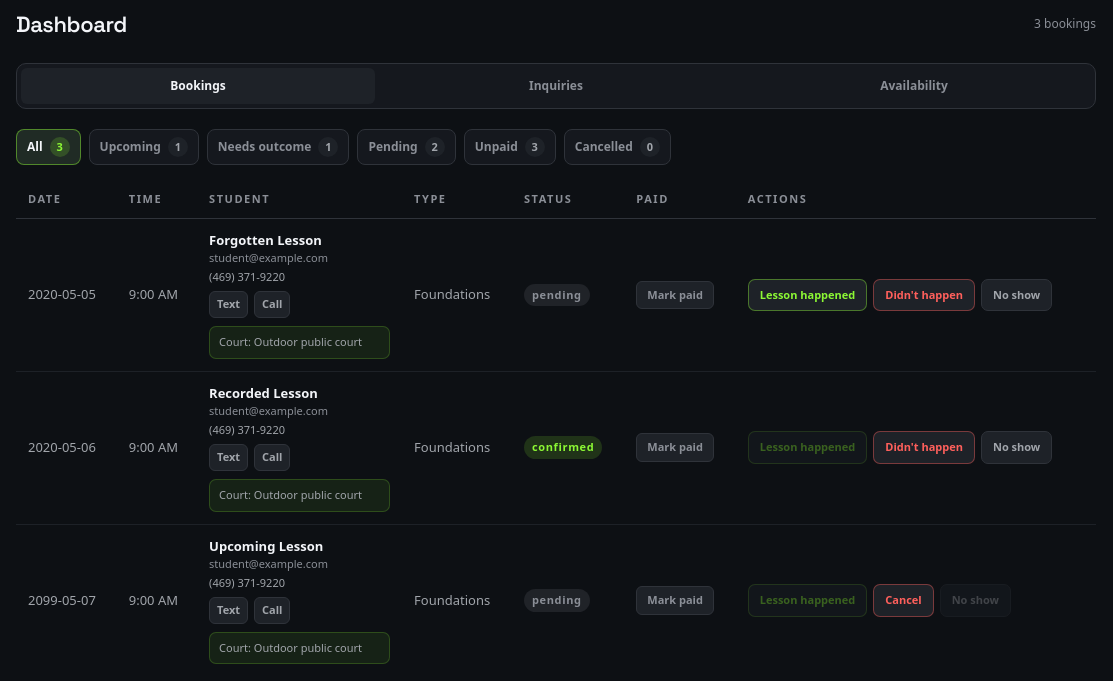
Test case: AdminDashboard availability › lists past lessons nobody has recorded under Needs outcome
The image size is (1113, 681).
Step 1. Click the button with aria-label "needs outcome bookings (1)" → (278, 147), box [207,129,349,165]
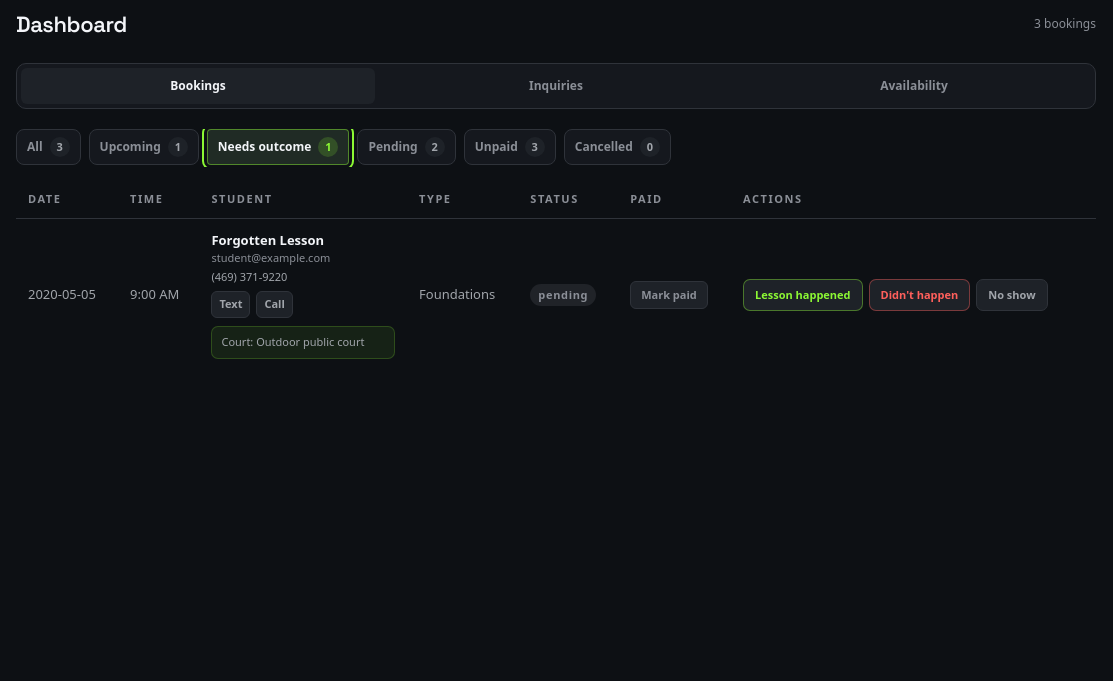
Expected: the text "Forgotten Lesson" is shown, [211,231,324,249]
Now the text "Recorded Lesson" is gone
Now the text "Upcoming Lesson" is gone
